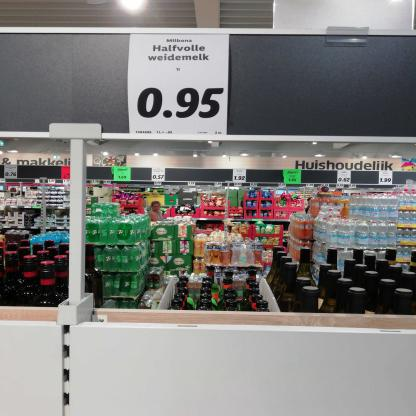prtg: (129, 35, 231, 136)
